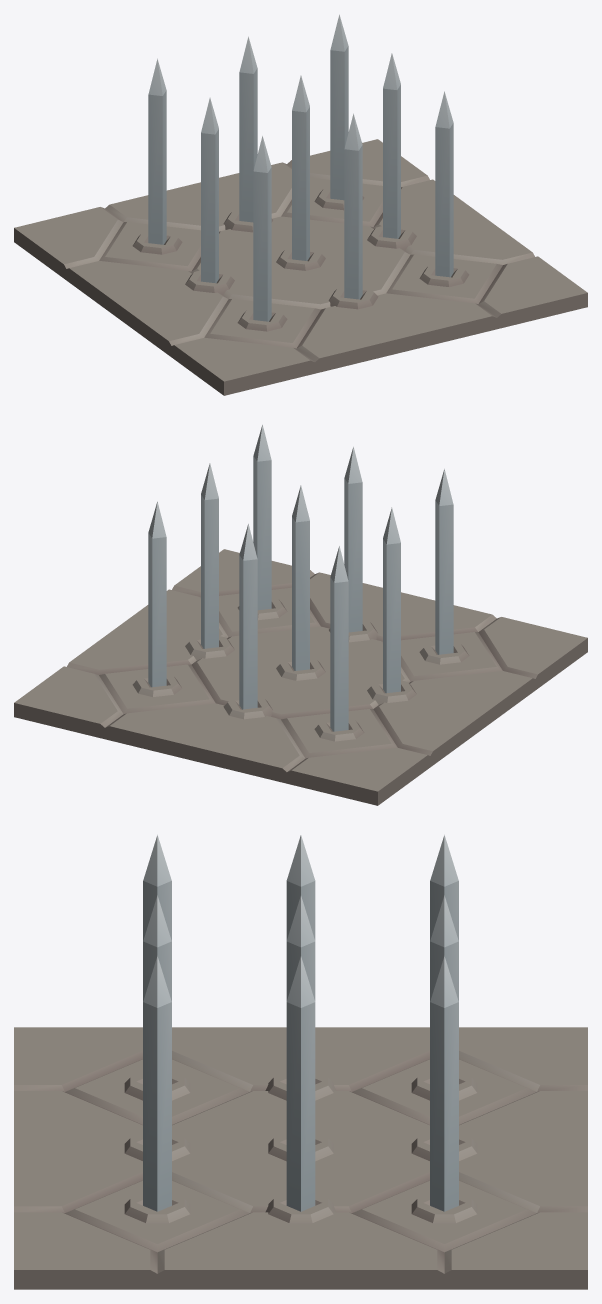
Rendered from floor_tile_big_spikes.gltf.
3 renders of one model, top to bottom at view 1: azimuth 30°, elevation 25°; view 2: azimuth 150°, elevation 25°; view 3: azimuth 270°, elevation 25°, orthographic. The views are drawn at different scales.
Visible parts, largest first — view 1: floor_tile_big_spikes, spikes; view 2: floor_tile_big_spikes, spikes; view 3: floor_tile_big_spikes, spikes.
Part boxes in pixels (x1,y1,x2,y2): floor_tile_big_spikes: (14,139,587,395); spikes: (148,14,453,321); floor_tile_big_spikes: (14,549,587,805); spikes: (148,424,453,731); floor_tile_big_spikes: (14,1027,587,1289); spikes: (143,834,458,1211).
Bounding box in the file's own units: 4 × 2.1 × 4.
Materials: 1 (1 with a texture image).
